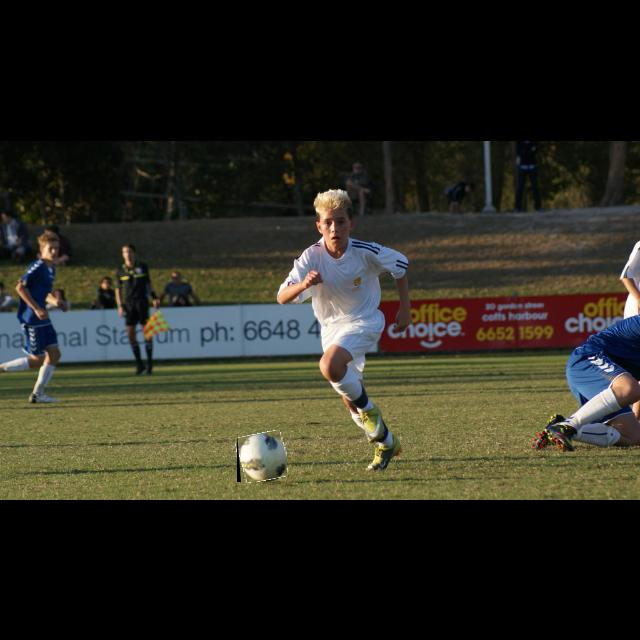Football: (237, 432, 287, 482)
